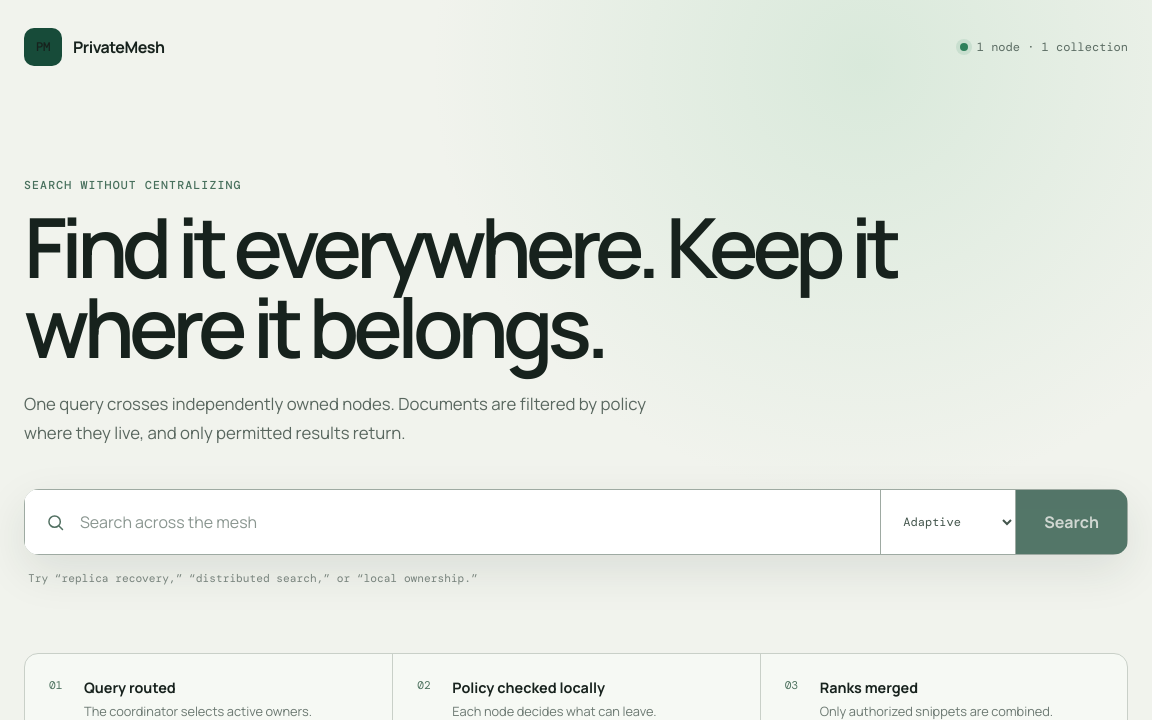
it: App › searches the mesh and opens an authorized document
Expected: the heading "Find it everywhere. Keep it where it belongs." is shown, top-left (24, 207), bottom-right (944, 366)
Expected: the text "1 node · 1 collection" is shown, top-left (960, 39), bottom-right (1128, 55)
Type "replica recovery" into the field with placeholder "Search across the mesh" at (470, 522), box top-left (80, 490), bottom-right (860, 554)
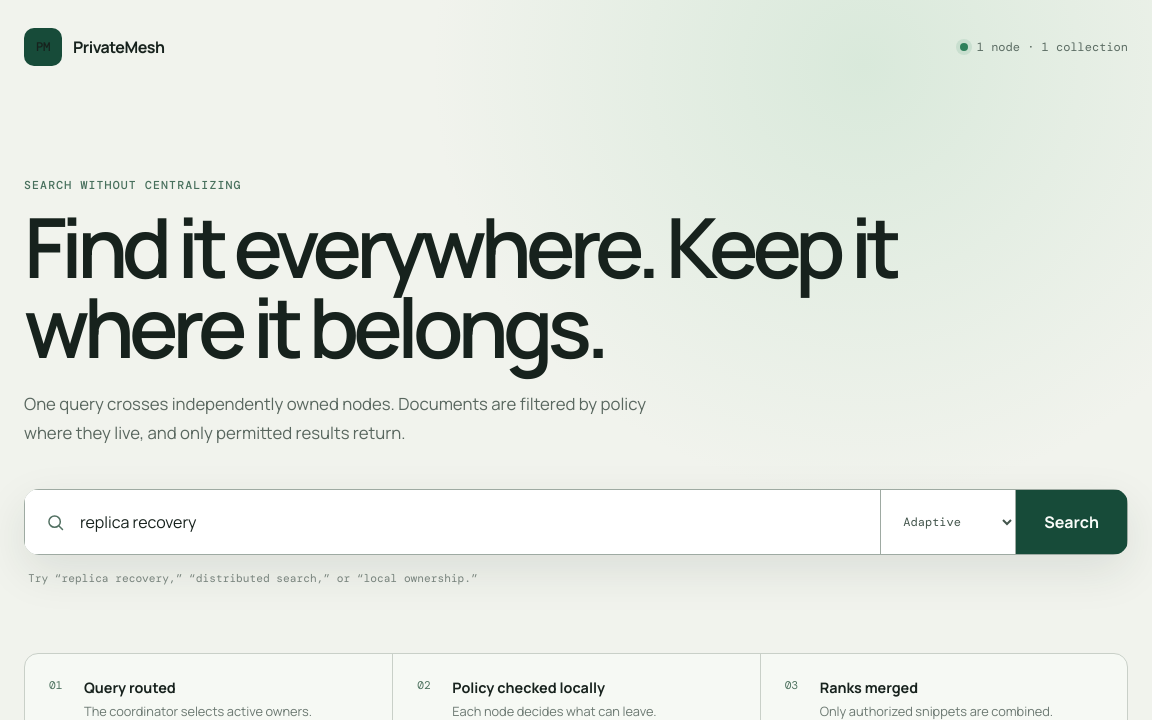
Click the button "Search" at (1072, 522), box top-left (1016, 490), bottom-right (1127, 554)
(page scrolled)
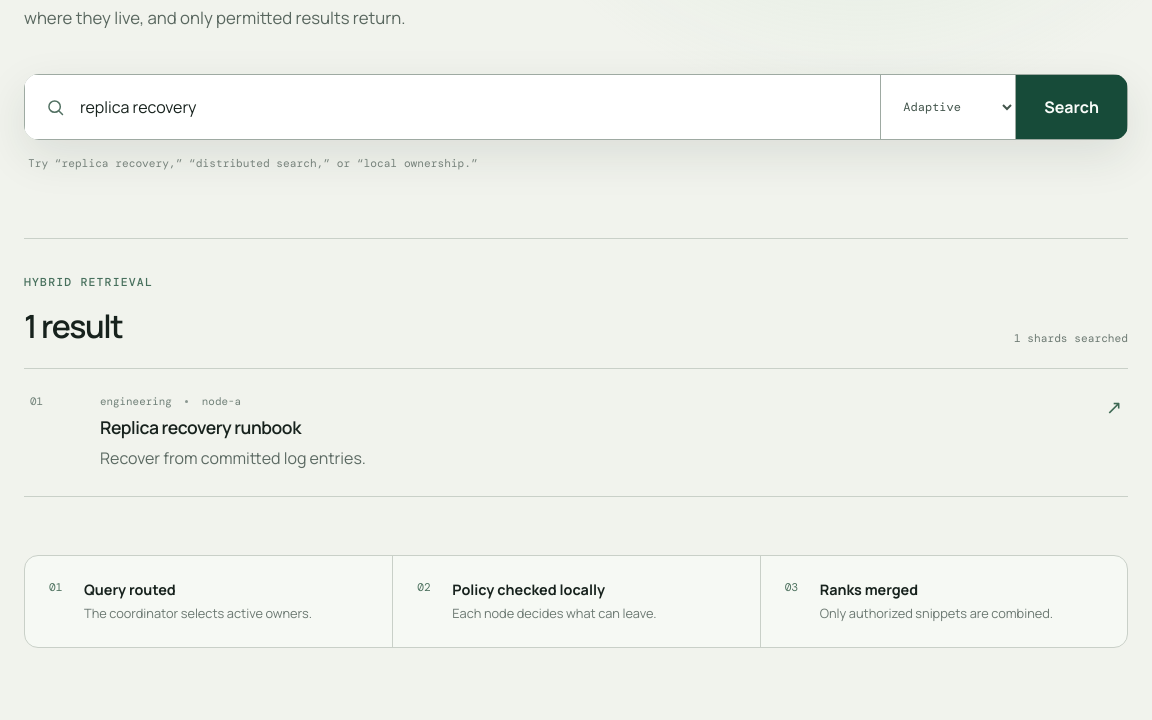
Expected: the text "Replica recovery runbook" is shown, top-left (100, 415), bottom-right (301, 439)
Expected: the text "1 shards searched" is shown, top-left (1014, 331), bottom-right (1128, 345)
Click the button "Replica recovery runbook" at (136, 401), box top-left (24, 369), bottom-right (1128, 497)
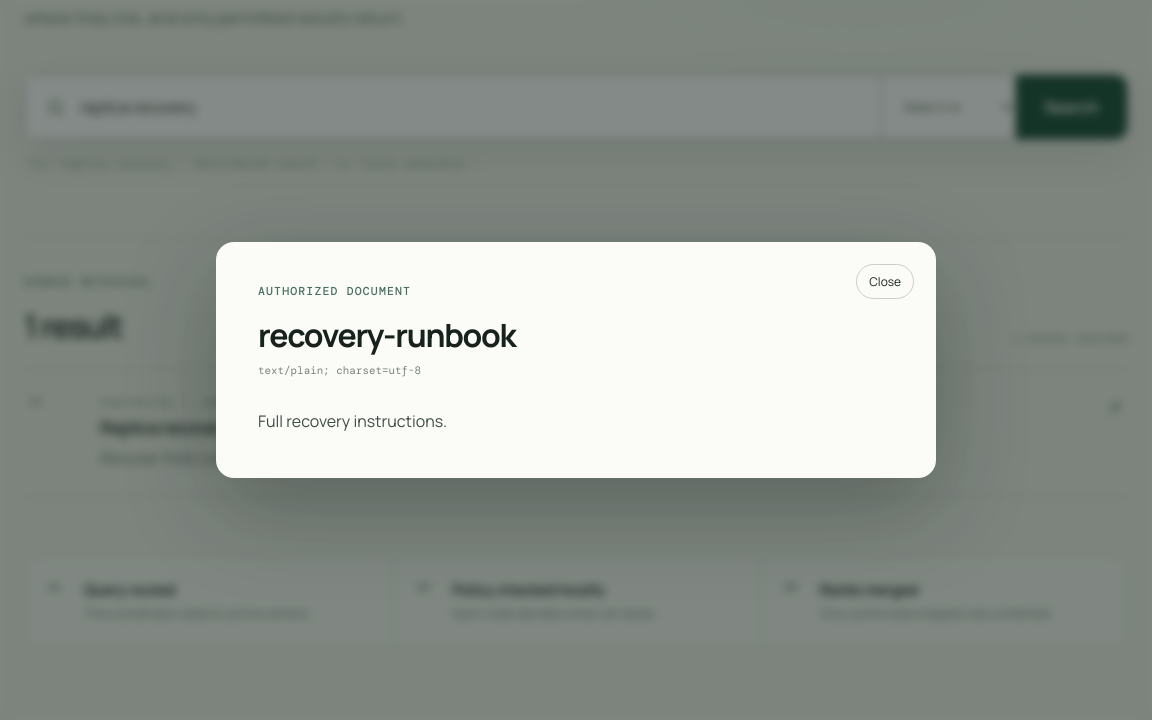
Expected: the text "Full recovery instructions." is shown, top-left (258, 410), bottom-right (447, 432)
